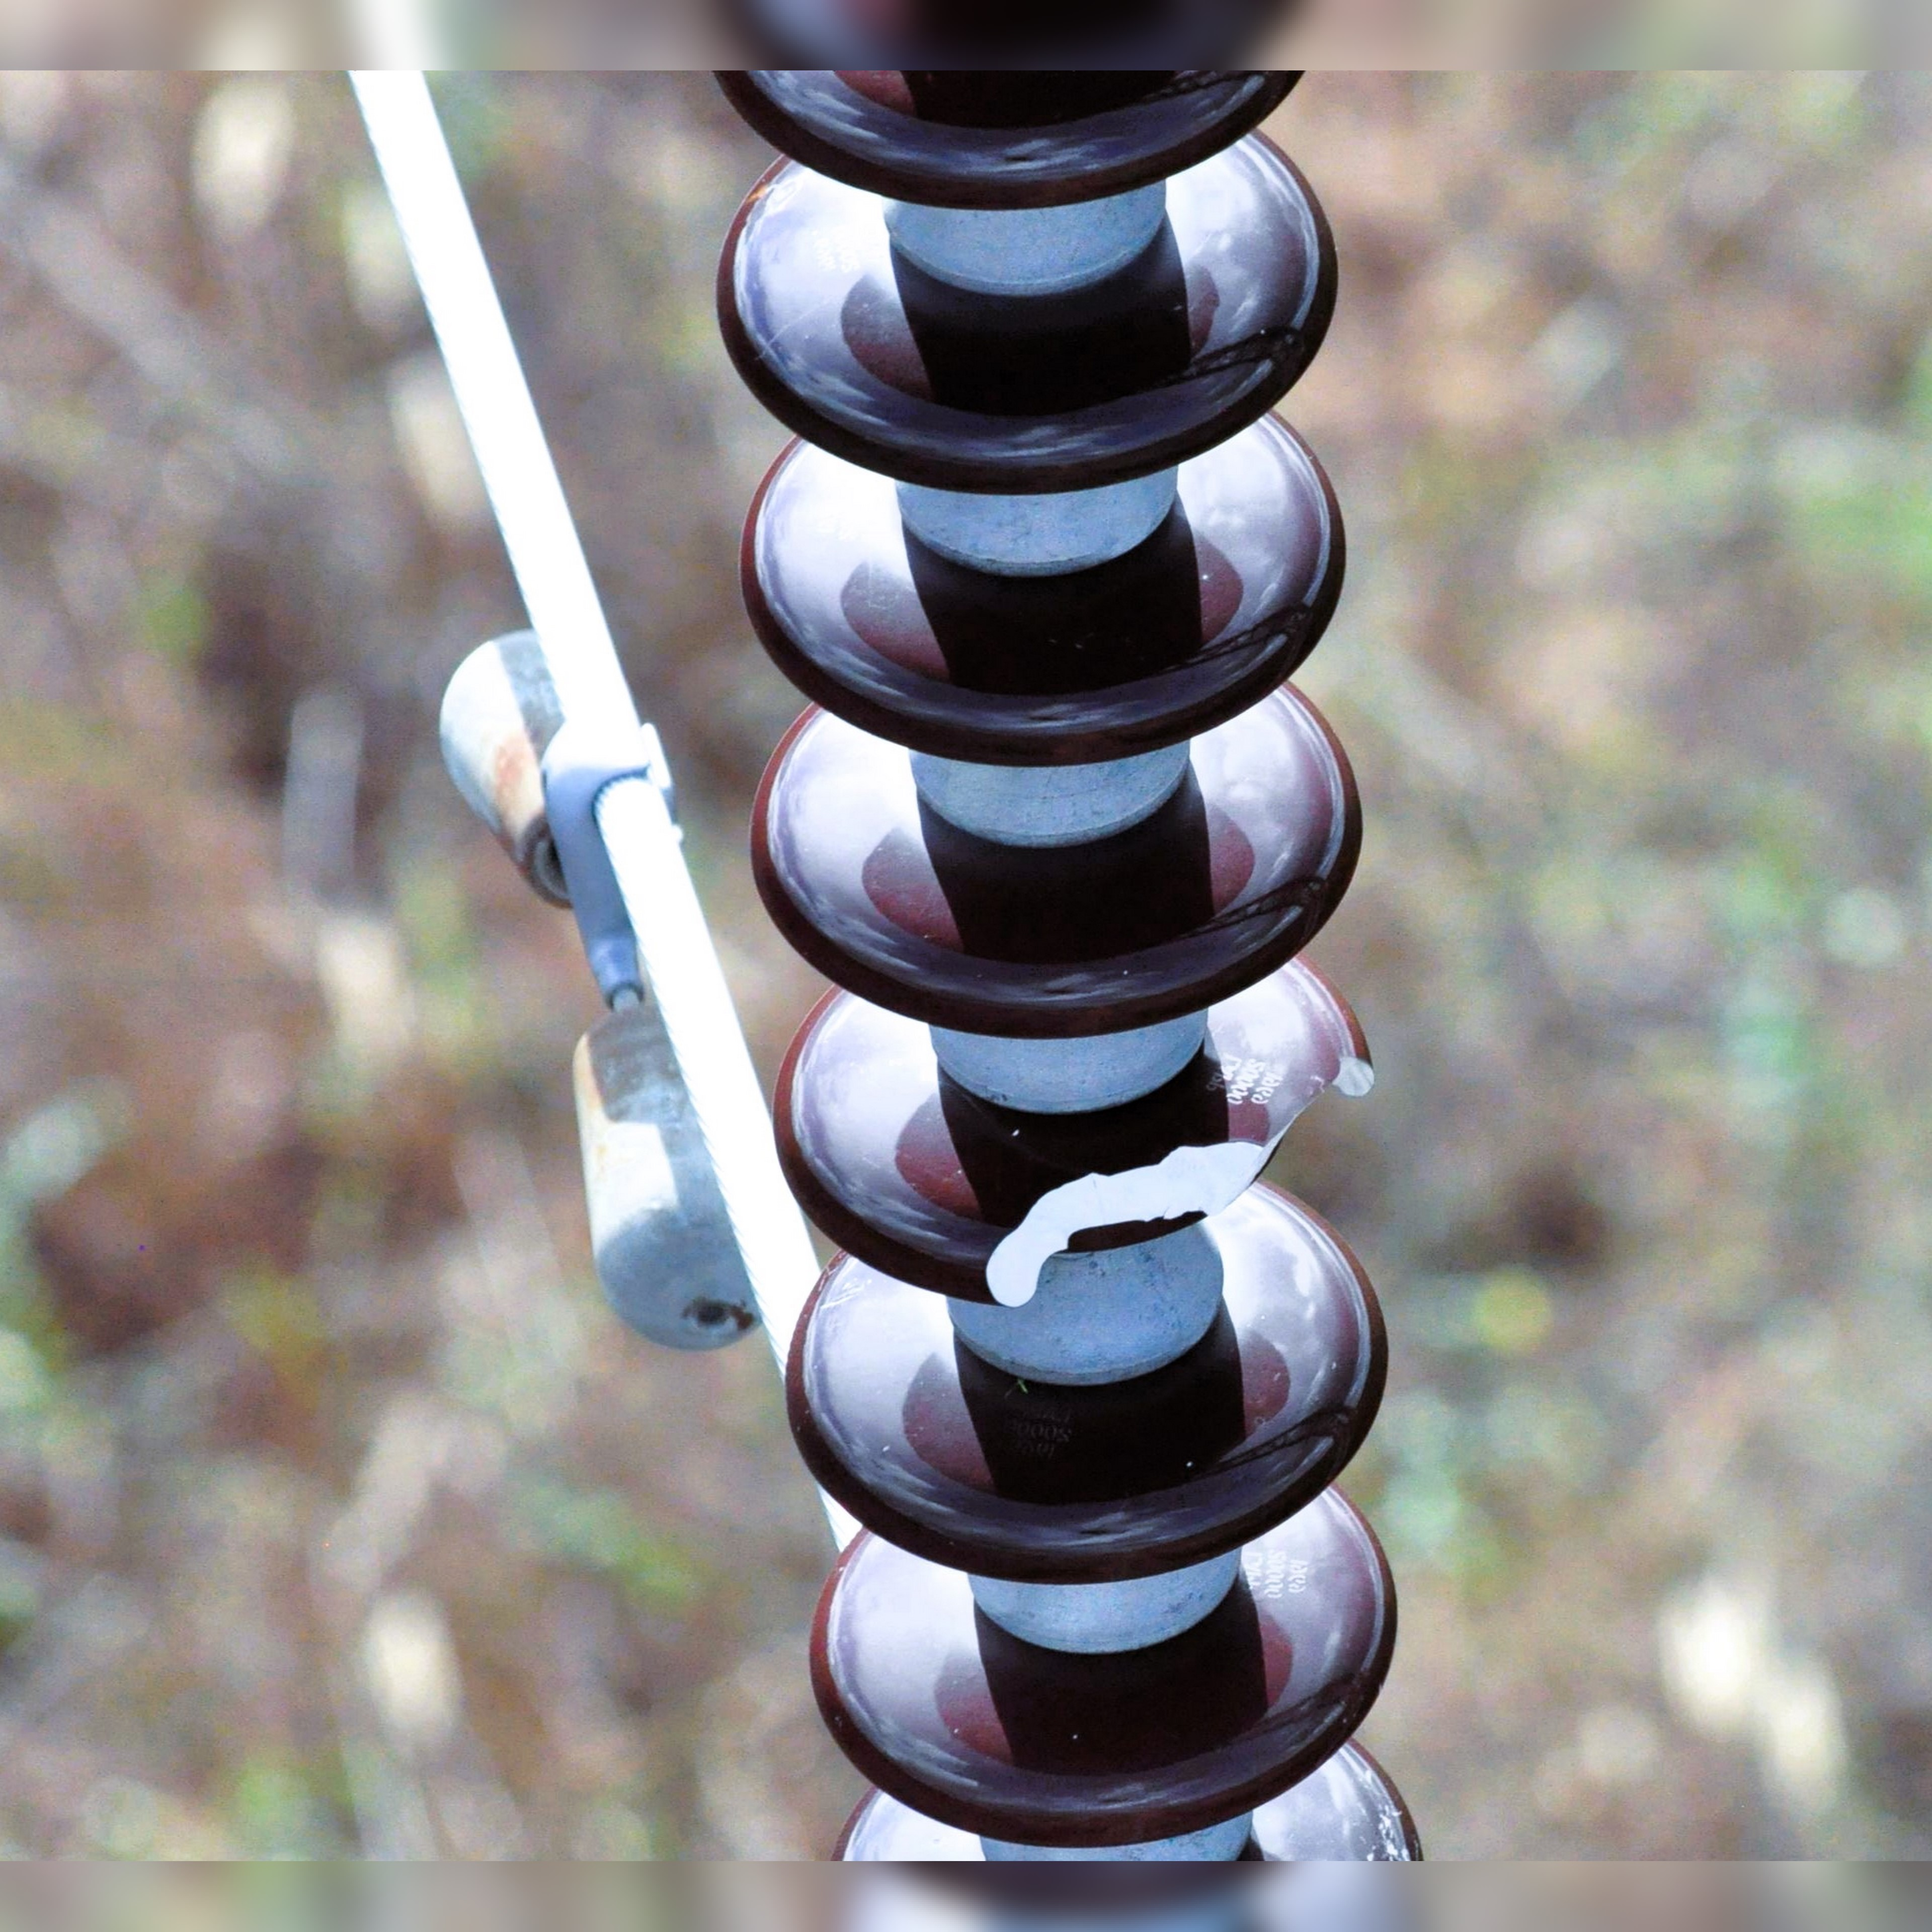insulator breakage: (766, 948, 1389, 1318)
